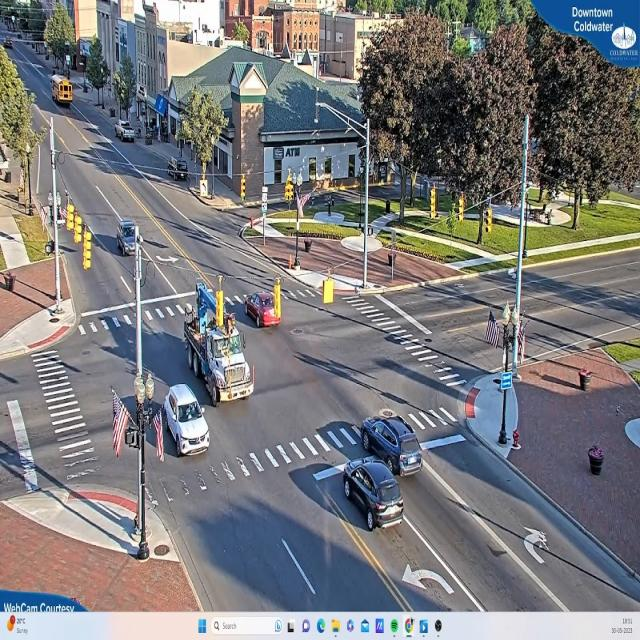car: (342, 459, 404, 529), (362, 416, 426, 477), (165, 385, 212, 459), (243, 292, 282, 329), (117, 124, 137, 143)
truck: (188, 282, 255, 405)
